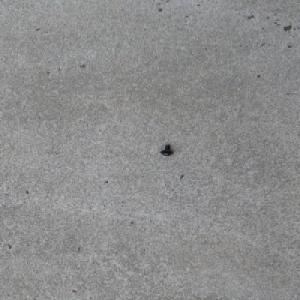BoltWasher: (160, 144, 174, 156)
